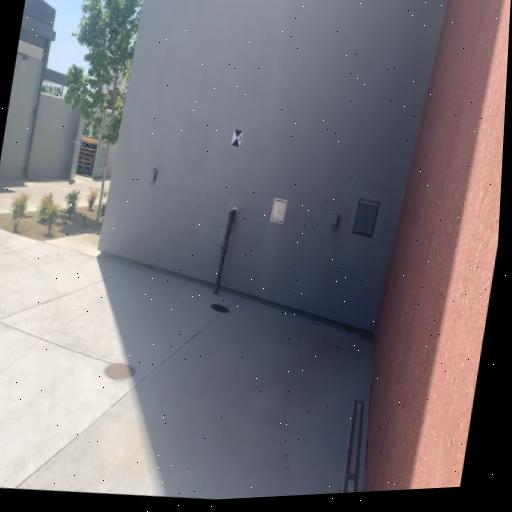target3: (231, 128, 243, 148)
